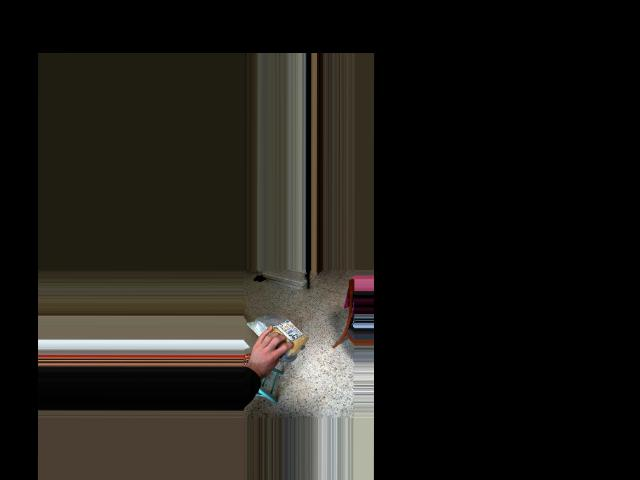cheese: (245, 318, 306, 351)
